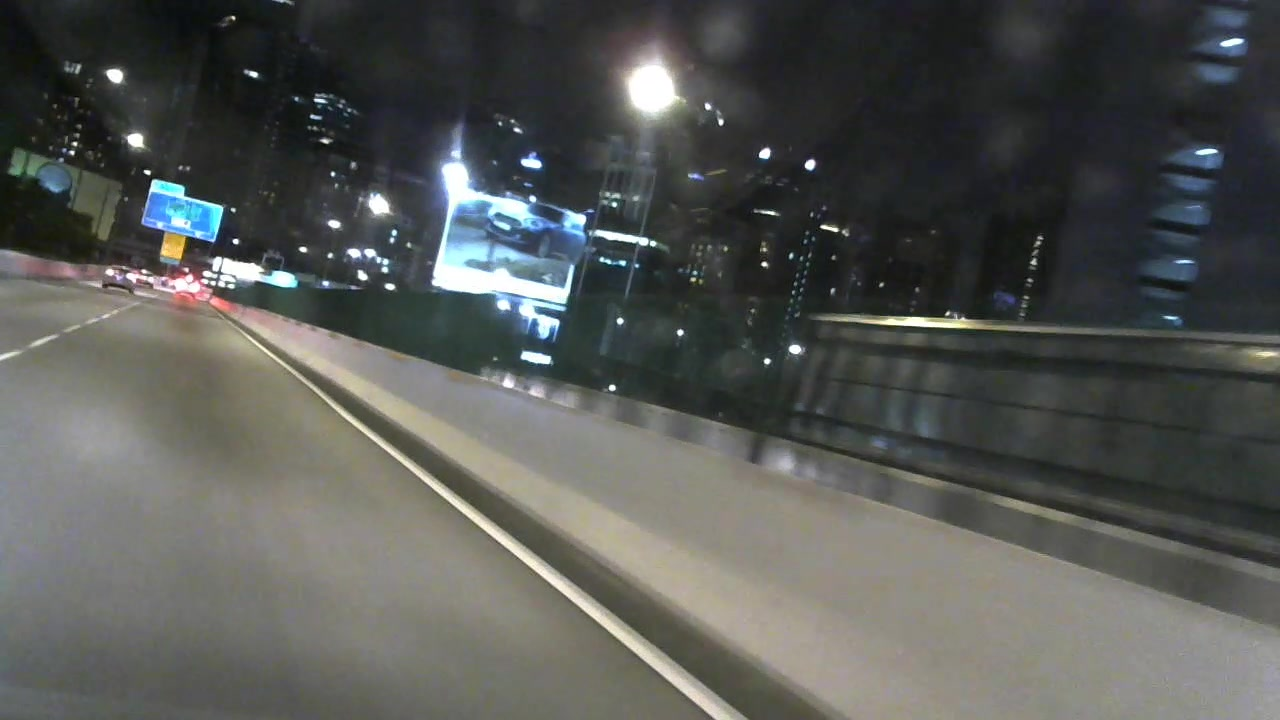Car: (474, 198, 589, 251), (97, 260, 141, 296), (170, 275, 199, 301), (137, 271, 156, 294)
